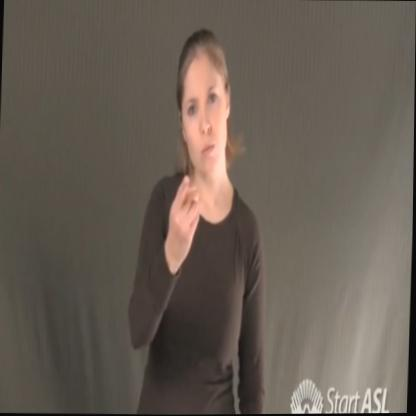HowAreYou: (126, 29, 277, 415)
